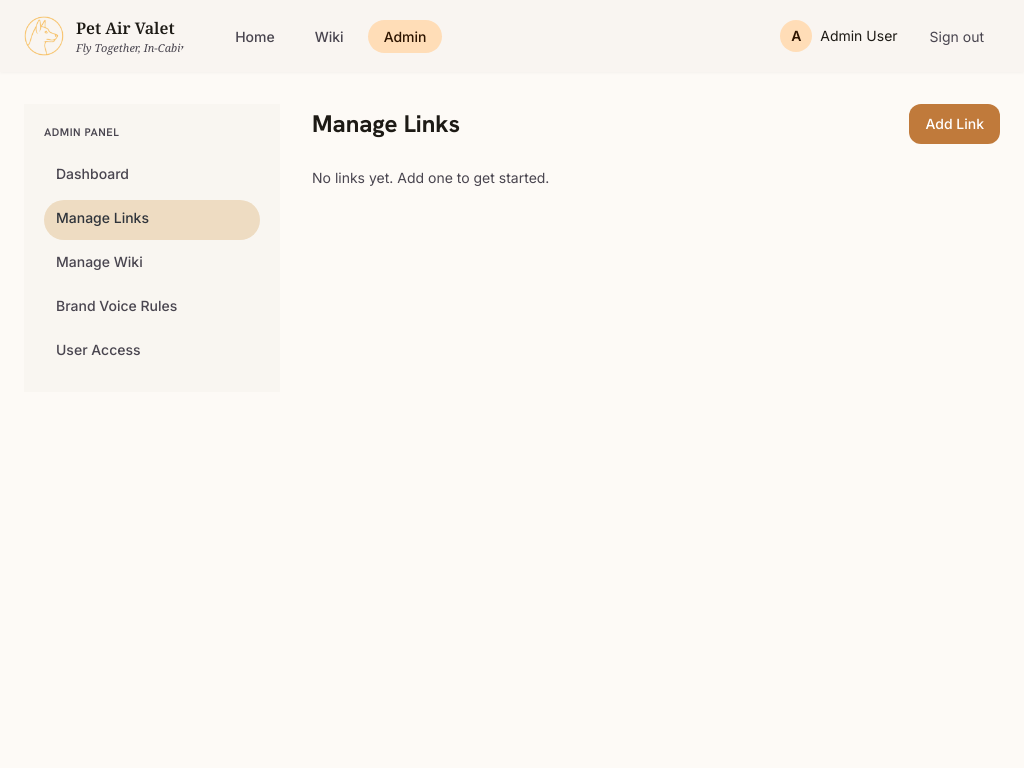
Test case: ManageLinksPage › cancel button hides form
The image size is (1024, 768).
Click the button "Add Link": point(955, 124) [909, 104, 1000, 144]
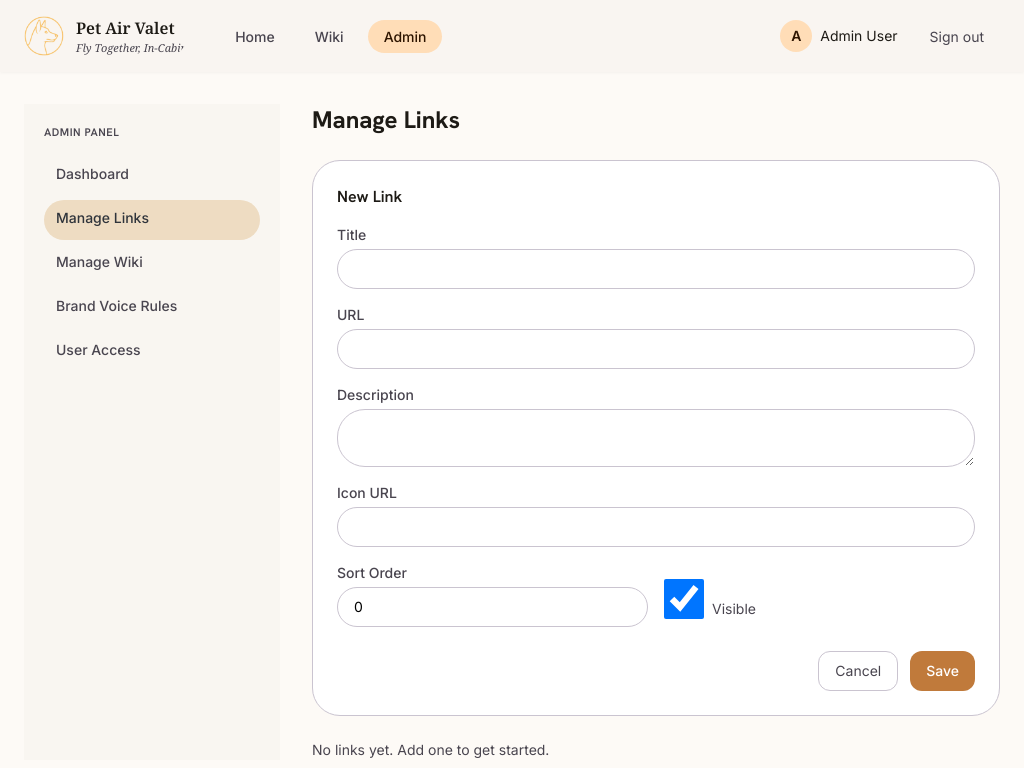
expect the heading "New Link" is shown: met, box [337, 186, 402, 207]
Click the button "Cancel": point(858, 671) [818, 651, 898, 691]
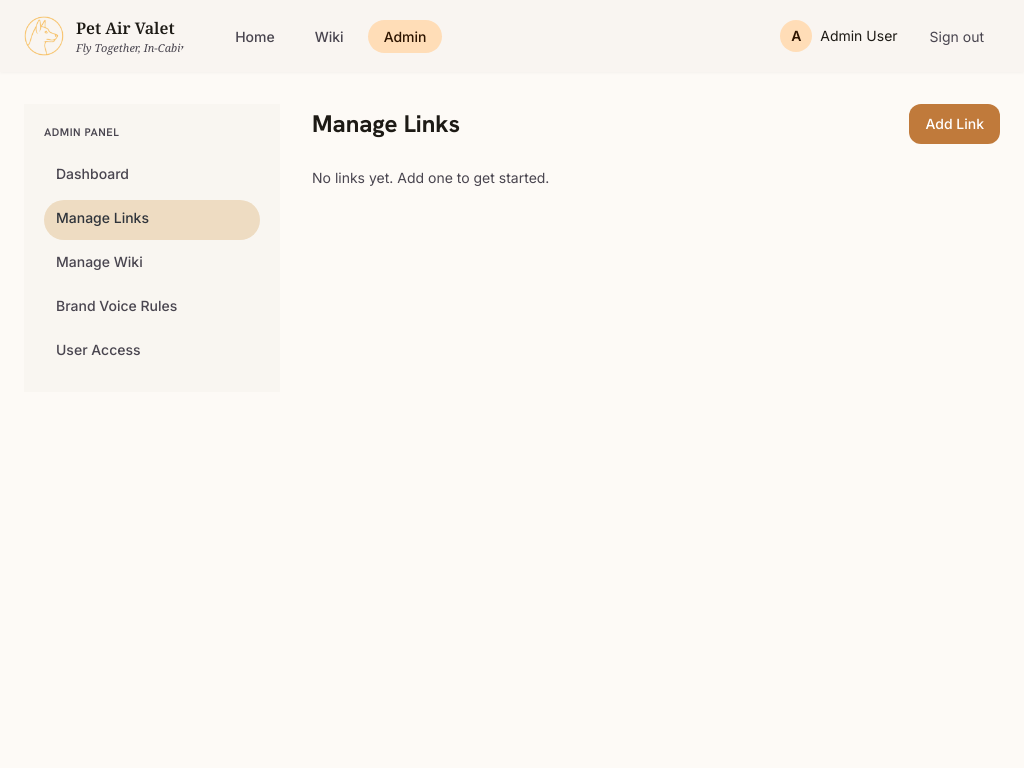
expect the heading "New Link" is gone: met
